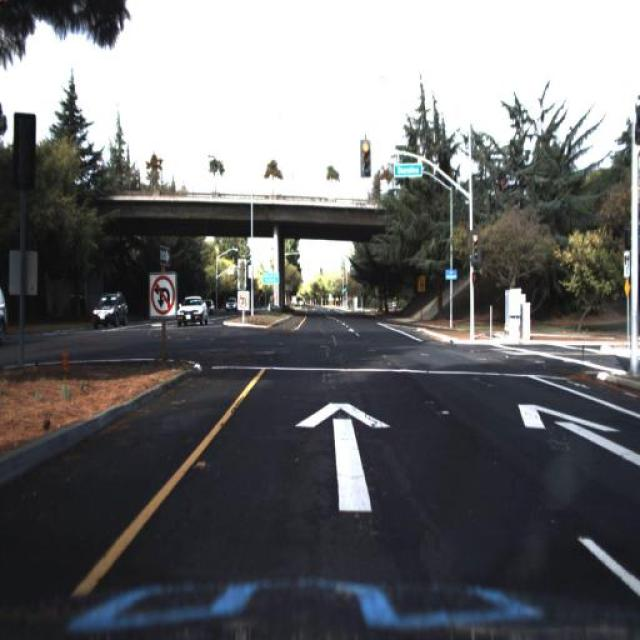car: (90, 287, 132, 335), (91, 286, 131, 326), (172, 290, 210, 332), (226, 294, 240, 314)
trafficLight-Green: (469, 230, 482, 262)
trafficLight-RedLeft: (361, 139, 372, 169)
